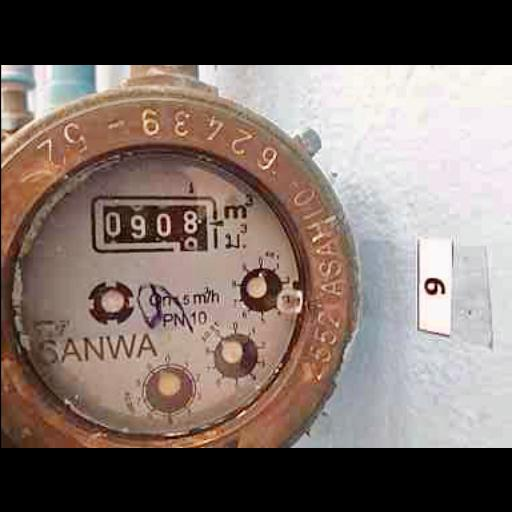0: (152, 204, 180, 242), (103, 205, 126, 243)
8: (179, 203, 208, 251)
9: (124, 204, 152, 243)
border_water_meter_number: (91, 194, 218, 253)
